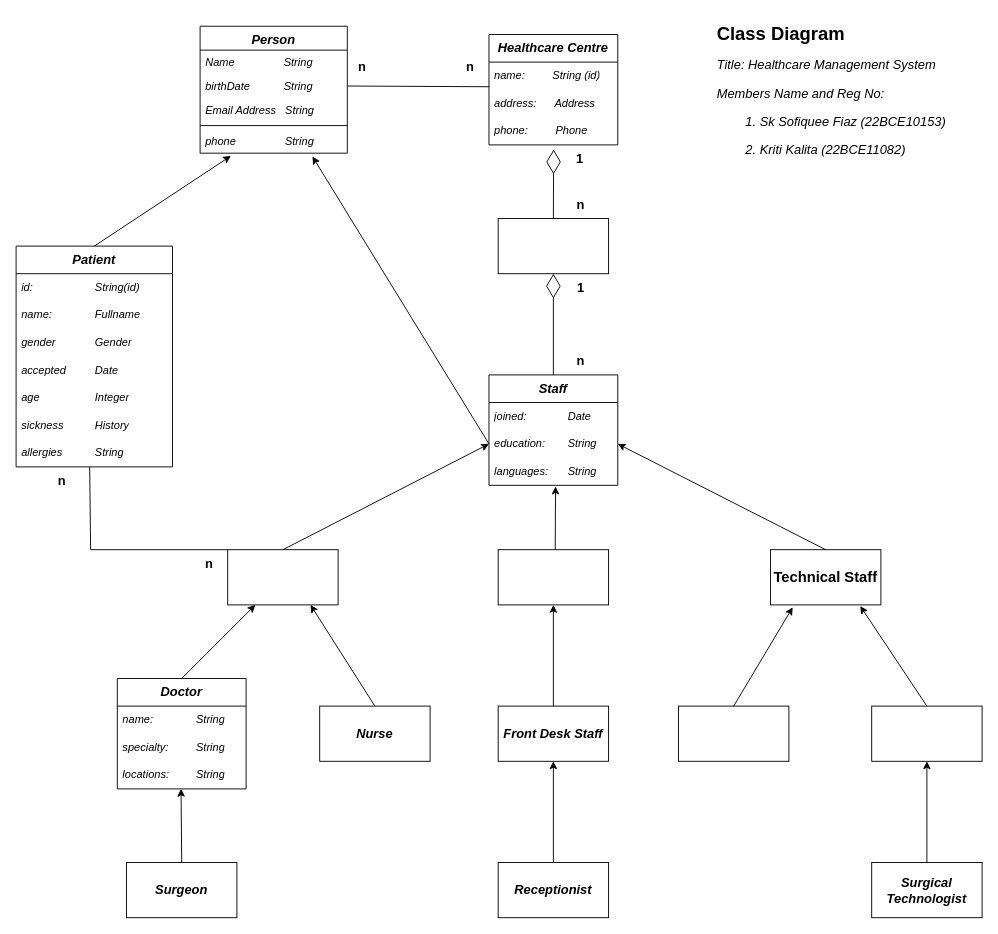
Image size: 998x934. Some labels were removed from this diagram. Here are the shapes that lost their labels. From the top down, the centre of each, then its label:
point (553, 246): Department
point (282, 577): Operations Staff
point (553, 577): Administrative Staff
point (733, 733): Technician
point (926, 733): Technologist
